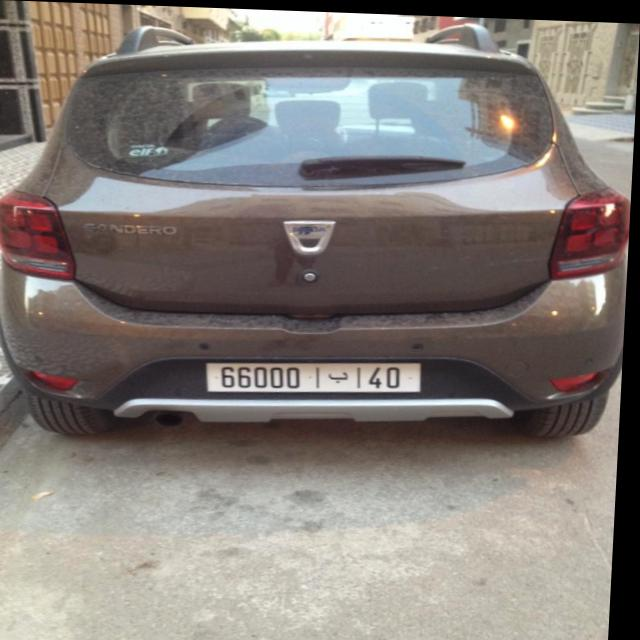License-Plate: (211, 359, 425, 390)
